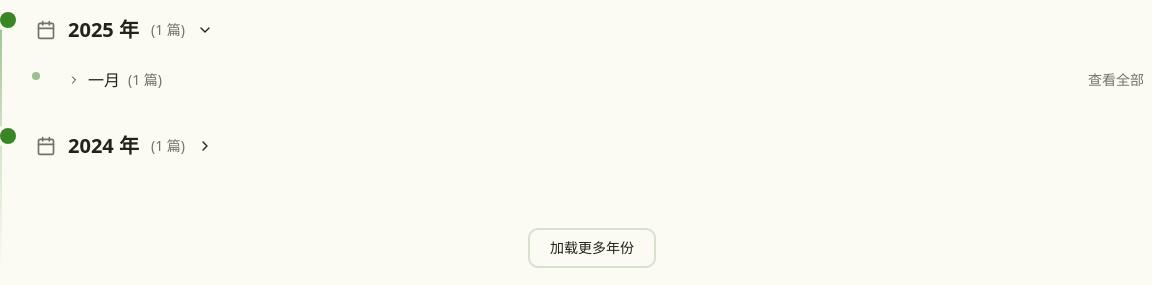
ArchiveTimeline › 点击加载更多后追加新年份
The width and height of the screenshot is (1152, 285).
Click the button "加载更多年份": (592, 248) top-left (528, 228), bottom-right (656, 268)
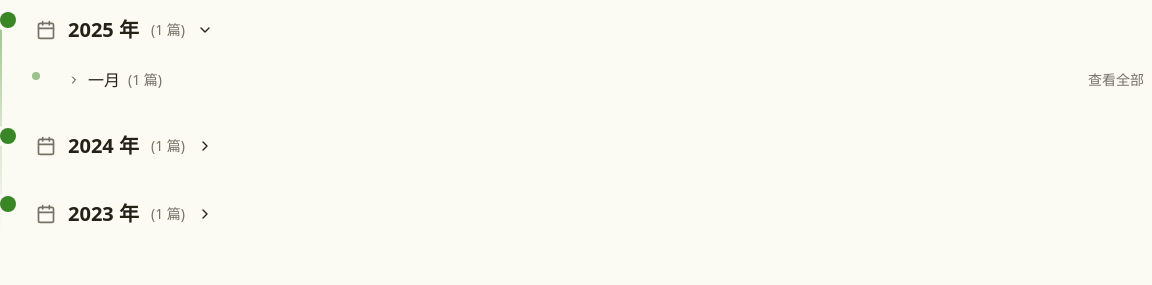
Expected: the heading "2023 年" is shown, top-left (68, 200), bottom-right (139, 228)
